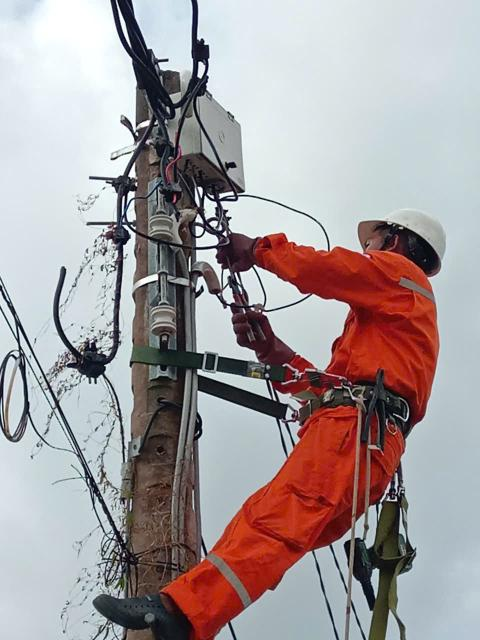gloves: (217, 299, 288, 370), (208, 220, 274, 279)
harness: (276, 363, 410, 447)
helmet: (346, 196, 466, 277)
shoes: (95, 573, 204, 640)
